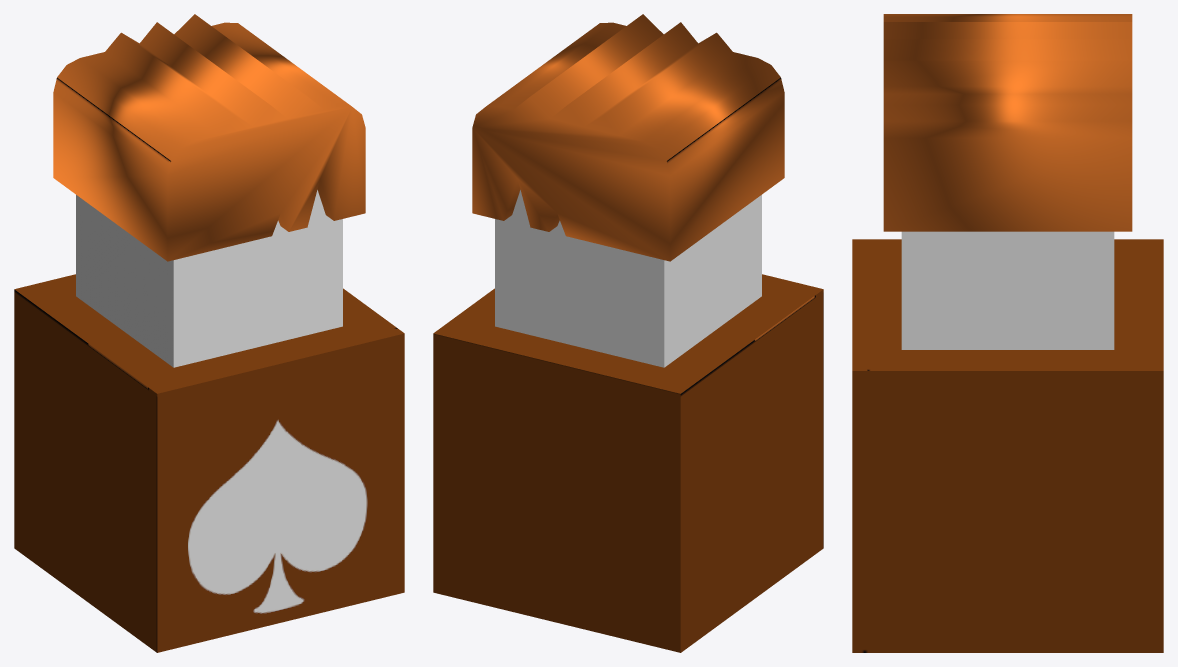
The model's file is lame alberto.fbx.
3 renders of one model, left to right at view 1: azimuth 30°, elevation 25°; view 2: azimuth 150°, elevation 25°; view 3: azimuth 270°, elevation 25°, orthographic. The views are drawn at different scales.
Parts seen in each view (by area): view 1: pasted__pCube33; view 2: pasted__pCube33; view 3: pasted__pCube33.
Part boxes in pixels (x1,y1,x2,y2): pasted__pCube33: (14,14,404,652); pasted__pCube33: (433,14,823,652); pasted__pCube33: (852,14,1163,652).
Size of the model in its own units: 3.45 by 6.73 by 3.45.
